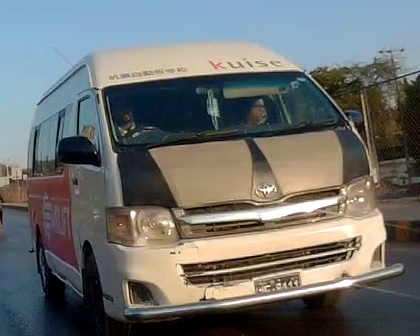van: (25, 41, 404, 336)
